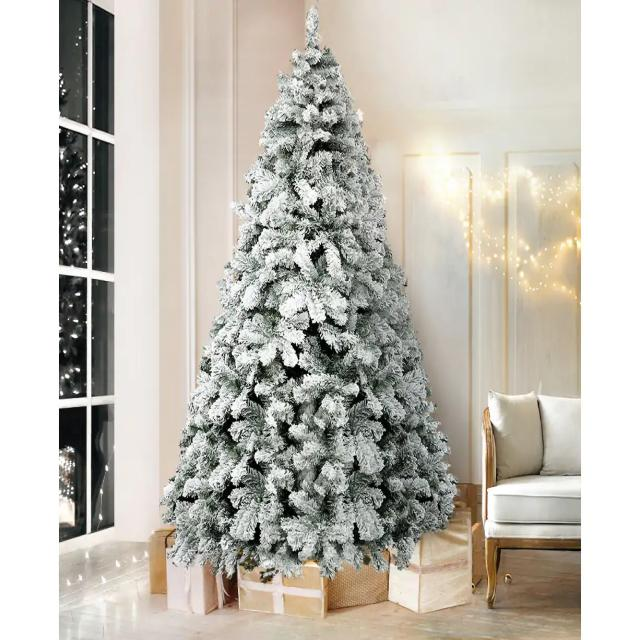Christmas-tree: (168, 0, 461, 536)
